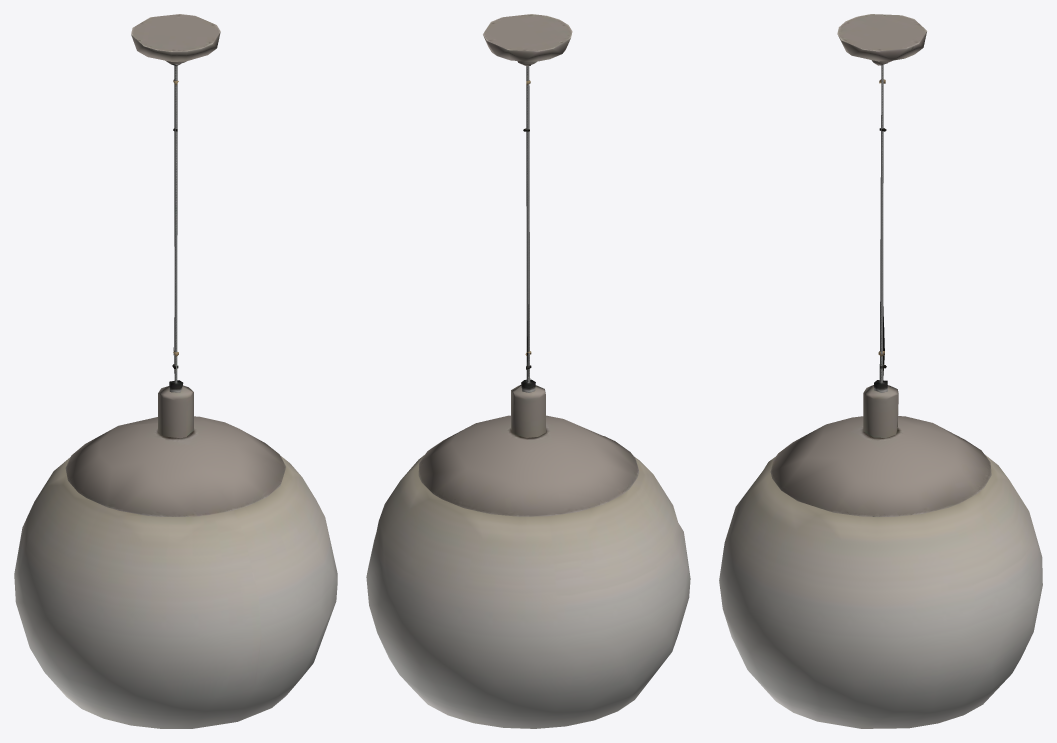
File: modern_ceiling_lamp_01.glb
3 renders of one model, left to right at view 1: azimuth 30°, elevation 25°; view 2: azimuth 150°, elevation 25°; view 3: azimuth 270°, elevation 25°, orthographic.
Visible parts, largest first — view 1: modern_ceiling_lamp_01; view 2: modern_ceiling_lamp_01; view 3: modern_ceiling_lamp_01.
Part boxes in pixels (<box>): modern_ceiling_lamp_01: <box>14,14,337,728</box>; modern_ceiling_lamp_01: <box>366,14,690,728</box>; modern_ceiling_lamp_01: <box>719,14,1042,728</box>.
Bounding box in the file's own units: 0.4297 × 0.9512 × 0.4306.
2 materials, 2 textured.
